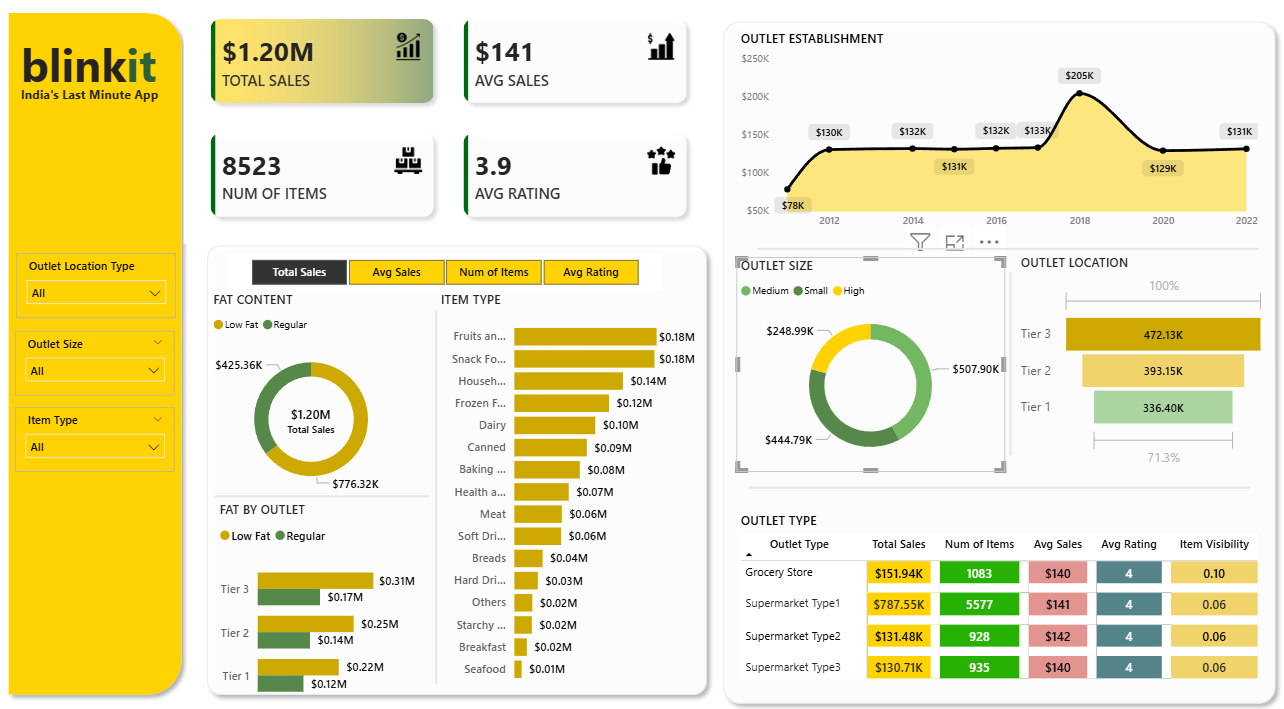

The page's visual inventory and layout, read from the dashboard file:
{"tool":"powerbi","page":{"name":"Page 1","canvas":[1400,800],"ordinal":0},"visuals":[{"type":"shape","box":[0,13.4,203.8,749.3],"z":0},{"type":"textbox","box":[17.4,95.2,170.2,40.2],"z":1000},{"type":"textbox","box":[17.4,40.2,170.2,75.1],"z":2000},{"type":"cardVisual","fields":{"Data":["BlinkIT Grocery Data.Total Sales","BlinkIT Grocery Data.Avg Sales","BlinkIT Grocery Data.Num of Items","BlinkIT Grocery Data.Avg Rating"]},"box":[197.1,0,569.7,270.8],"z":3000},{"type":"shape","box":[213.1,262.7,553.6,500],"z":4000},{"type":"donutChart","title":"FAT CONTENT","fields":{"Y":["BlinkIT Grocery Data.Total Sales"],"Category":["BlinkIT Grocery Data.Item Fat Content"]},"box":[223.9,320.4,219.8,230.6],"z":5000},{"type":"slicer","fields":{"Values":["Metrics.Metrics"]},"box":[244,280.2,465.1,40.2],"z":6000},{"type":"cardVisual","fields":{"Data":["BlinkIT Grocery Data.Total Sales"]},"box":[273.5,422.3,120.6,75.1],"z":7000},{"type":"clusteredBarChart","title":"FAT BY OUTLET ","fields":{"Y":["BlinkIT Grocery Data.Total Sales"],"Category":["BlinkIT Grocery Data.Outlet Location Type"],"Series":["BlinkIT Grocery Data.Item Fat Content"]},"box":[230.6,545.6,219.8,230.6],"z":8000},{"type":"shape","box":[230.6,536.2,229.2,9.4],"z":9000},{"type":"shape","box":[463.8,341.8,8,400.8],"z":10000},{"type":"barChart","title":"ITEM TYPE","fields":{"Y":["BlinkIT Grocery Data.Total Sales"],"Category":["BlinkIT Grocery Data.Item Type"]},"box":[467.8,320.4,282.8,430.3],"z":11000},{"type":"shape","box":[766.8,22.8,609.9,749.3],"z":12000},{"type":"lineChart","title":"OUTLET ESTABLISHMENT","fields":{"Category":["BlinkIT Grocery Data.Outlet Establishment Year"],"Y":["BlinkIT Grocery Data.Total Sales"]},"box":[789.5,40.2,564.3,222.5],"z":13000},{"type":"shape","box":[803,526.8,537.5,9.4],"z":14000},{"type":"donutChart","title":"OUTLET SIZE","fields":{"Y":["BlinkIT Grocery Data.Total Sales"],"Category":["BlinkIT Grocery Data.Outlet Size"]},"box":[789.5,284.2,288.2,230.6],"z":15000},{"type":"shape","box":[1077.8,300.3,12.1,197.1],"z":16000},{"type":"funnel","title":"OUTLET LOCATION","fields":{"Y":["Sum(BlinkIT Grocery Data.Sales)"],"Category":["BlinkIT Grocery Data.Outlet Location Type"]},"box":[1089.8,280.2,272.1,234.6],"z":17000},{"type":"shape","box":[813,271.4,537.5,9.4],"z":18000},{"type":"pivotTable","title":"OUTLET TYPE","fields":{"Rows":["BlinkIT Grocery Data.Outlet Type"],"Values":["BlinkIT Grocery Data.Total Sales","BlinkIT Grocery Data.Num of Items","BlinkIT Grocery Data.Avg Sales","BlinkIT Grocery Data.Avg Rating","Avg(BlinkIT Grocery Data.Item Visibility)"]},"box":[789.5,557.6,564.3,193],"z":19000},{"type":"slicer","fields":{"Values":["BlinkIT Grocery Data.Outlet Location Type"]},"box":[17.4,280.2,171.6,69.7],"z":19001},{"type":"slicer","fields":{"Values":["BlinkIT Grocery Data.Outlet Size"]},"box":[16.1,363.3,171.6,69.7],"z":19002},{"type":"slicer","fields":{"Values":["BlinkIT Grocery Data.Item Type"]},"box":[16.1,445,171.6,69.7],"z":19003}]}

Visuals, with their boxes on the page's 1400x800 design canvas (x1, y1, x2, y2). These are canvas units, not pixel positions in the 1284x709 screenshot, which may show the page scaled, cropped or inside an application window:
shape: {"left": 0, "top": 13, "right": 204, "bottom": 763}
textbox: {"left": 17, "top": 95, "right": 188, "bottom": 135}
textbox: {"left": 17, "top": 40, "right": 188, "bottom": 115}
cardVisual - BlinkIT Grocery Data.Total Sales x BlinkIT Grocery Data.Avg Sales: {"left": 197, "top": 0, "right": 767, "bottom": 271}
shape: {"left": 213, "top": 263, "right": 767, "bottom": 763}
"FAT CONTENT" donutChart: {"left": 224, "top": 320, "right": 444, "bottom": 551}
slicer - Metrics.Metrics: {"left": 244, "top": 280, "right": 709, "bottom": 320}
cardVisual - BlinkIT Grocery Data.Total Sales: {"left": 274, "top": 422, "right": 394, "bottom": 497}
"FAT BY OUTLET " clusteredBarChart: {"left": 231, "top": 546, "right": 450, "bottom": 776}
shape: {"left": 231, "top": 536, "right": 460, "bottom": 546}
shape: {"left": 464, "top": 342, "right": 472, "bottom": 743}
"ITEM TYPE" barChart: {"left": 468, "top": 320, "right": 751, "bottom": 751}
shape: {"left": 767, "top": 23, "right": 1377, "bottom": 772}
"OUTLET ESTABLISHMENT" lineChart: {"left": 790, "top": 40, "right": 1354, "bottom": 263}
shape: {"left": 803, "top": 527, "right": 1340, "bottom": 536}
"OUTLET SIZE" donutChart: {"left": 790, "top": 284, "right": 1078, "bottom": 515}
shape: {"left": 1078, "top": 300, "right": 1090, "bottom": 497}
"OUTLET LOCATION" funnel: {"left": 1090, "top": 280, "right": 1362, "bottom": 515}
shape: {"left": 813, "top": 271, "right": 1350, "bottom": 281}
"OUTLET TYPE" pivotTable: {"left": 790, "top": 558, "right": 1354, "bottom": 751}
slicer - BlinkIT Grocery Data.Outlet Location Type: {"left": 17, "top": 280, "right": 189, "bottom": 350}
slicer - BlinkIT Grocery Data.Outlet Size: {"left": 16, "top": 363, "right": 188, "bottom": 433}
slicer - BlinkIT Grocery Data.Item Type: {"left": 16, "top": 445, "right": 188, "bottom": 515}
